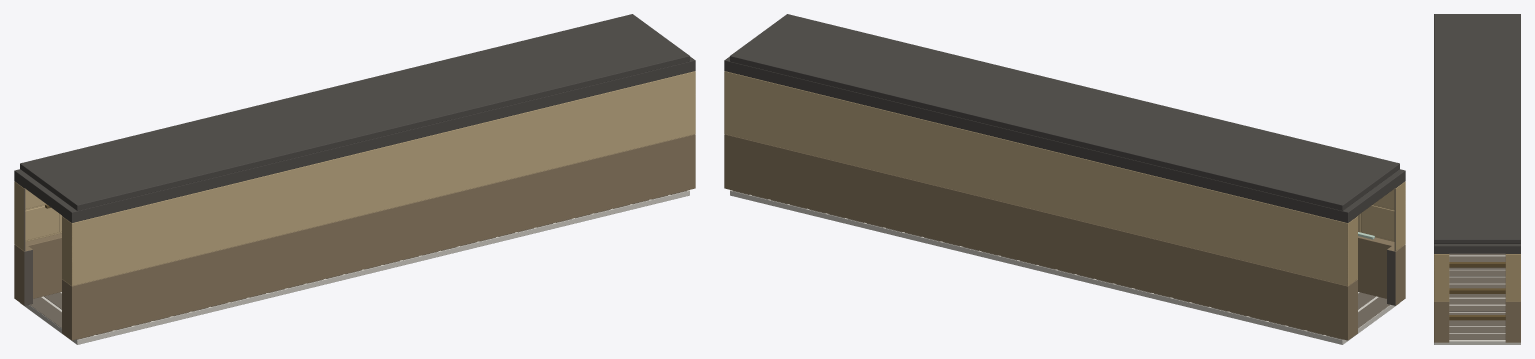
File: spine.glb
The picture shows the model from 3 angles, left to right: view 1: azimuth 30°, elevation 25°; view 2: azimuth 150°, elevation 25°; view 3: azimuth 270°, elevation 25°; orthographic projection. The views are drawn at different scales.
Parts seen in each view (by area): view 1: SPINE; view 2: SPINE; view 3: SPINE.
Part boxes in pixels (<box>): SPINE: <box>14,14,695,344</box>; SPINE: <box>724,14,1405,344</box>; SPINE: <box>1434,14,1520,344</box>.
Size of the model in its own units: 11.4 by 2.44 by 1.82.
